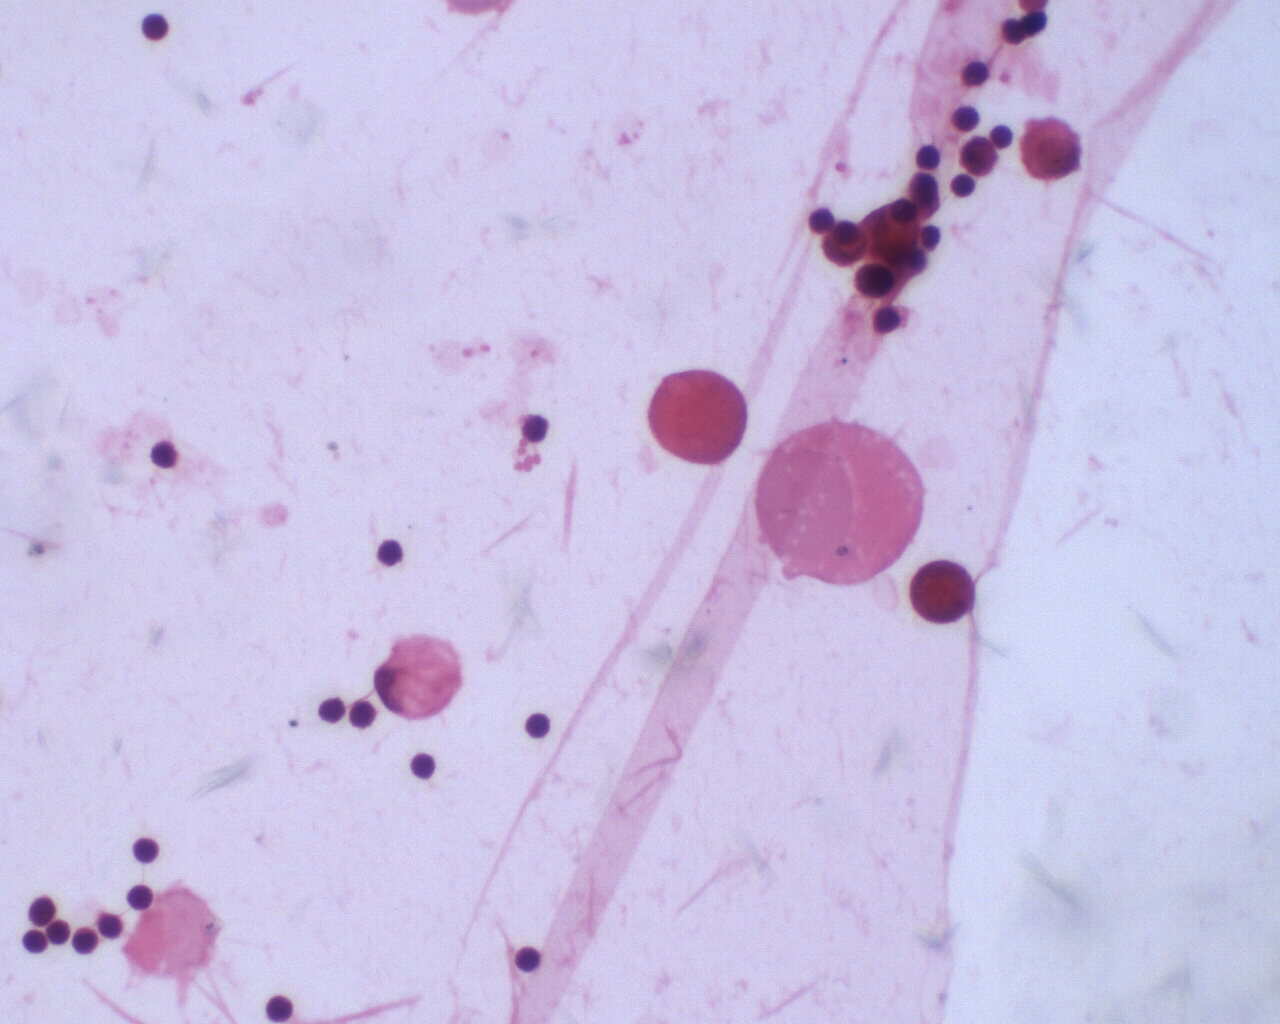ab: (1017, 110, 1089, 187), (909, 557, 981, 628)
histo: (367, 628, 465, 722)
lymph: (145, 430, 187, 479), (371, 530, 414, 575), (137, 6, 176, 47), (67, 922, 107, 959), (125, 878, 161, 917), (259, 992, 302, 1024), (127, 828, 161, 867), (511, 937, 546, 974), (408, 746, 443, 783), (950, 100, 985, 137), (517, 706, 551, 741), (912, 138, 945, 172), (948, 171, 980, 204)
